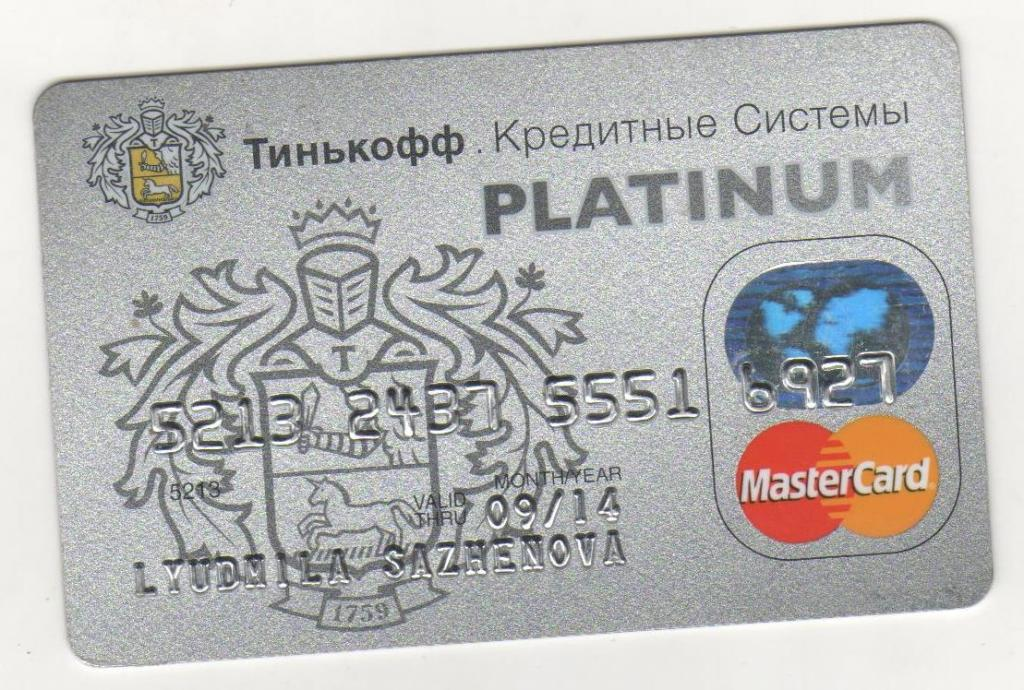card: (33, 21, 994, 666)
